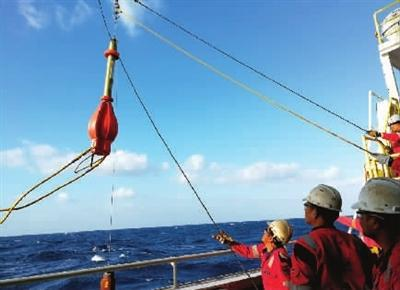helmet: (353, 174, 398, 241), (301, 180, 346, 230), (262, 218, 295, 249)
